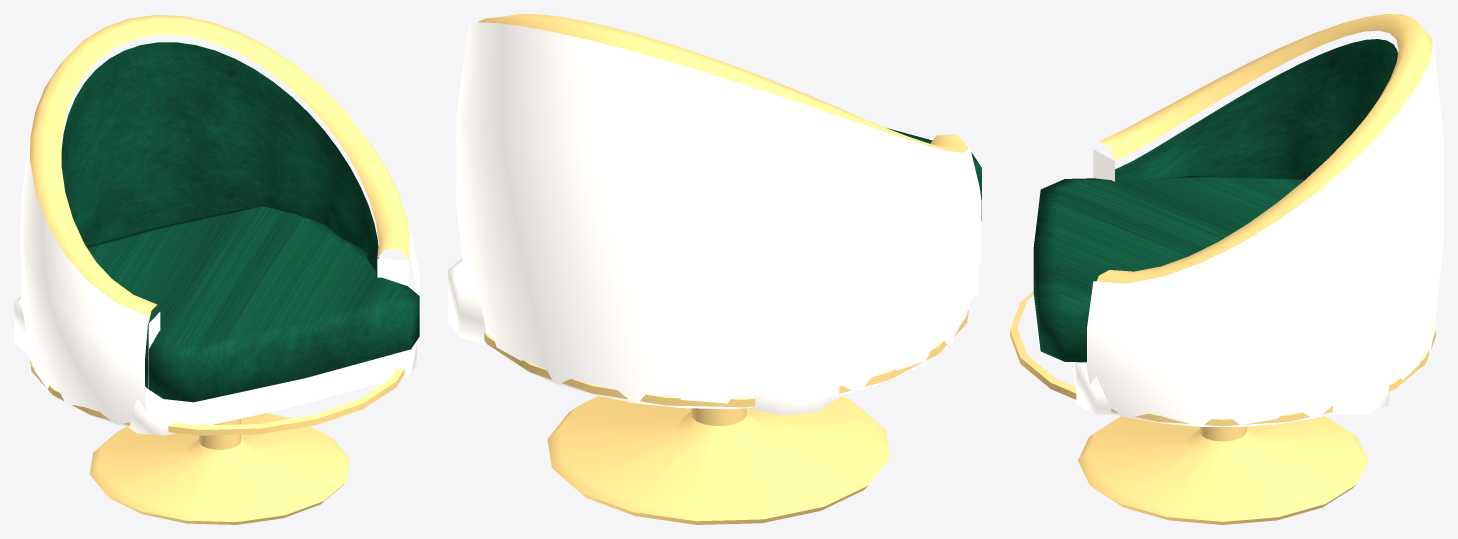
The model's file is tb_chair.glb.
The picture shows the model from 3 angles, left to right: view 1: azimuth 30°, elevation 25°; view 2: azimuth 150°, elevation 25°; view 3: azimuth 270°, elevation 25°; orthographic projection. The views are drawn at different scales.
Visible parts, largest first — view 1: tb_chair; view 2: tb_chair; view 3: tb_chair.
Part boxes in pixels (x1,y1,x2,y2): tb_chair: (14, 15, 419, 524); tb_chair: (448, 14, 981, 524); tb_chair: (1010, 14, 1443, 524).
Bounding box in the file's own units: 0.9402 × 1.01 × 0.9267.
Materials: 3 (1 with a texture image).
